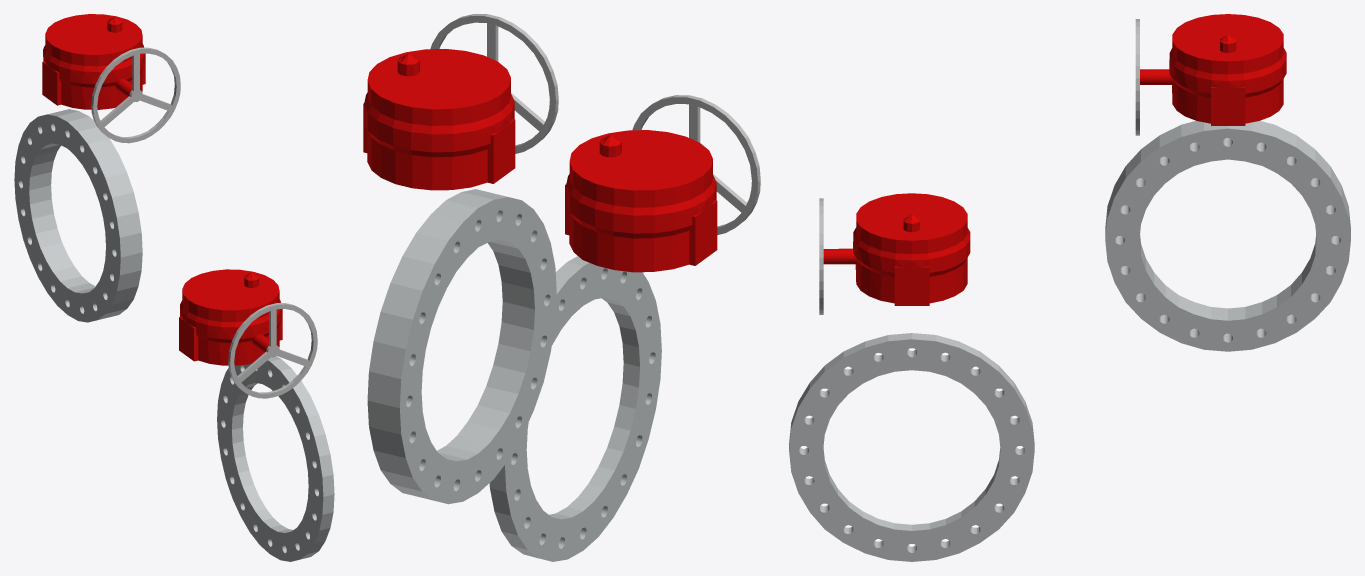
The picture shows the model from 3 angles, left to right: view 1: azimuth 30°, elevation 25°; view 2: azimuth 150°, elevation 25°; view 3: azimuth 270°, elevation 25°; orthographic projection. The views are drawn at different scales.
Bounding box in the file's own units: 0.3283 × 1.47 × 1.46.
